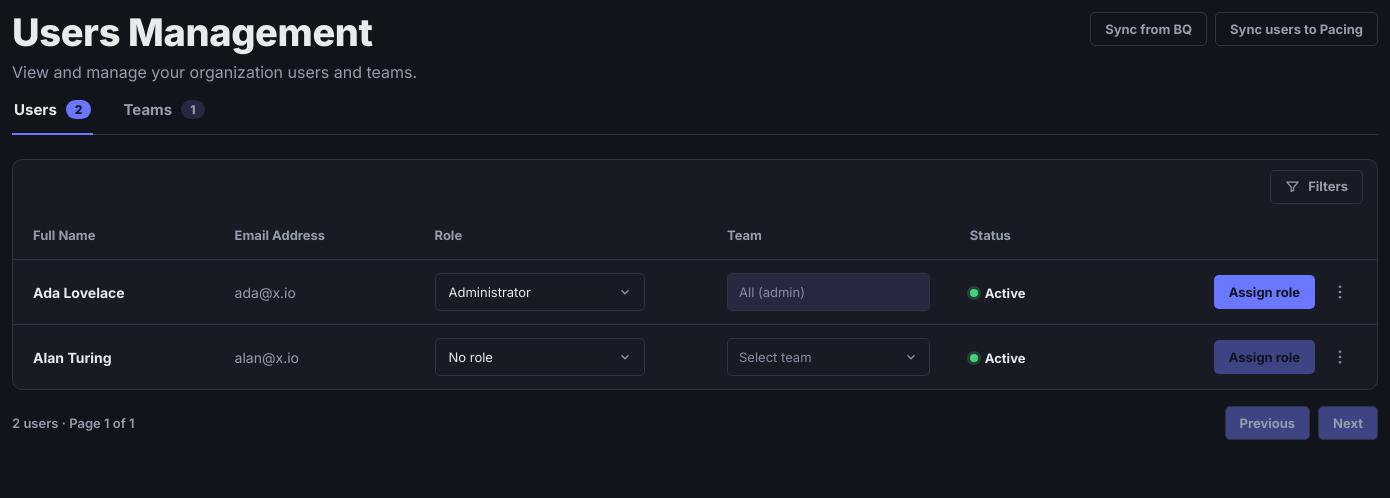
TeamManagement › should not offer inactive teams when assigning a role
The width and height of the screenshot is (1390, 498).
Expected: the text "Alan Turing" is shown, [13,325,215,389]
Click the button with aria-label "Team for Alan Turing". click: (828, 357)
box: [727,338,930,376]
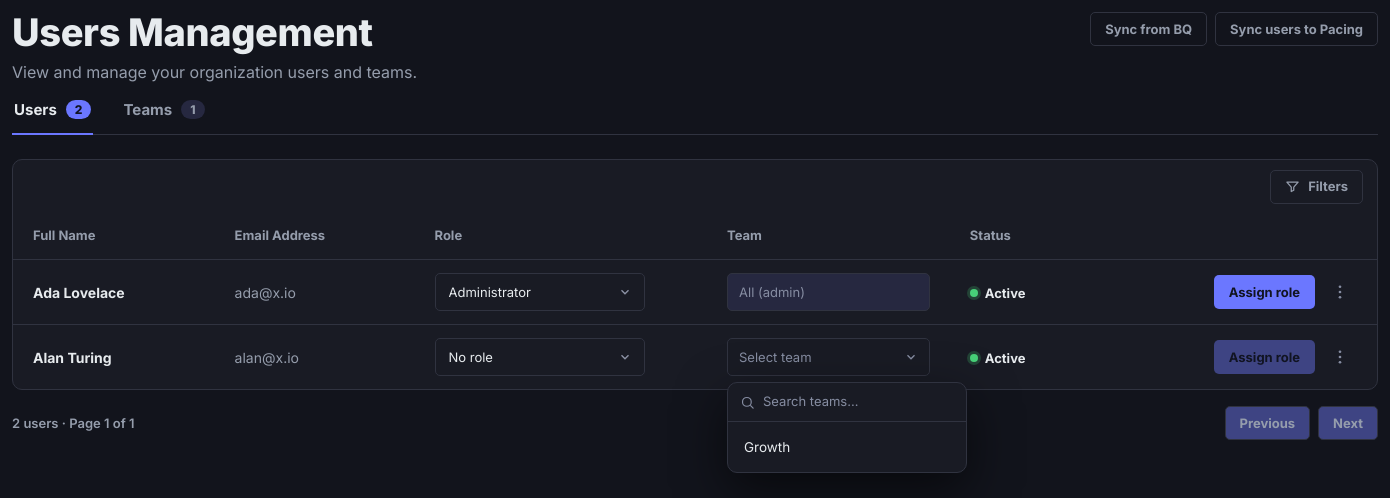
Expected: the button "Growth" is shown, [734,428,960,466]
